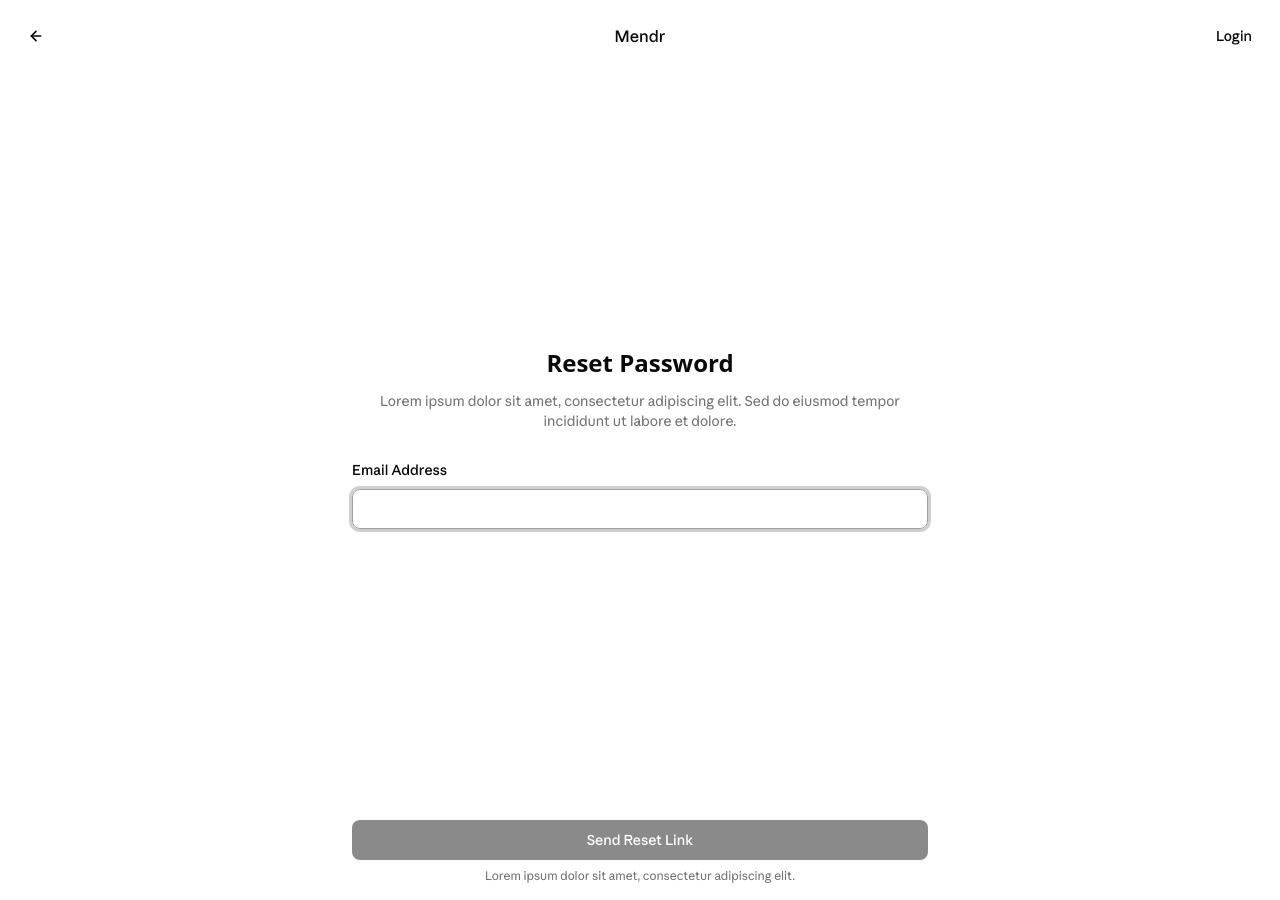
Scenario: auth/forgot/client.tsx › shows confirmation state after successful submission
The width and height of the screenshot is (1280, 900).
Step 1. Type "user@example.com" into the field labelled "Email Address" → (640, 509), box top-left (352, 489), bottom-right (928, 529)
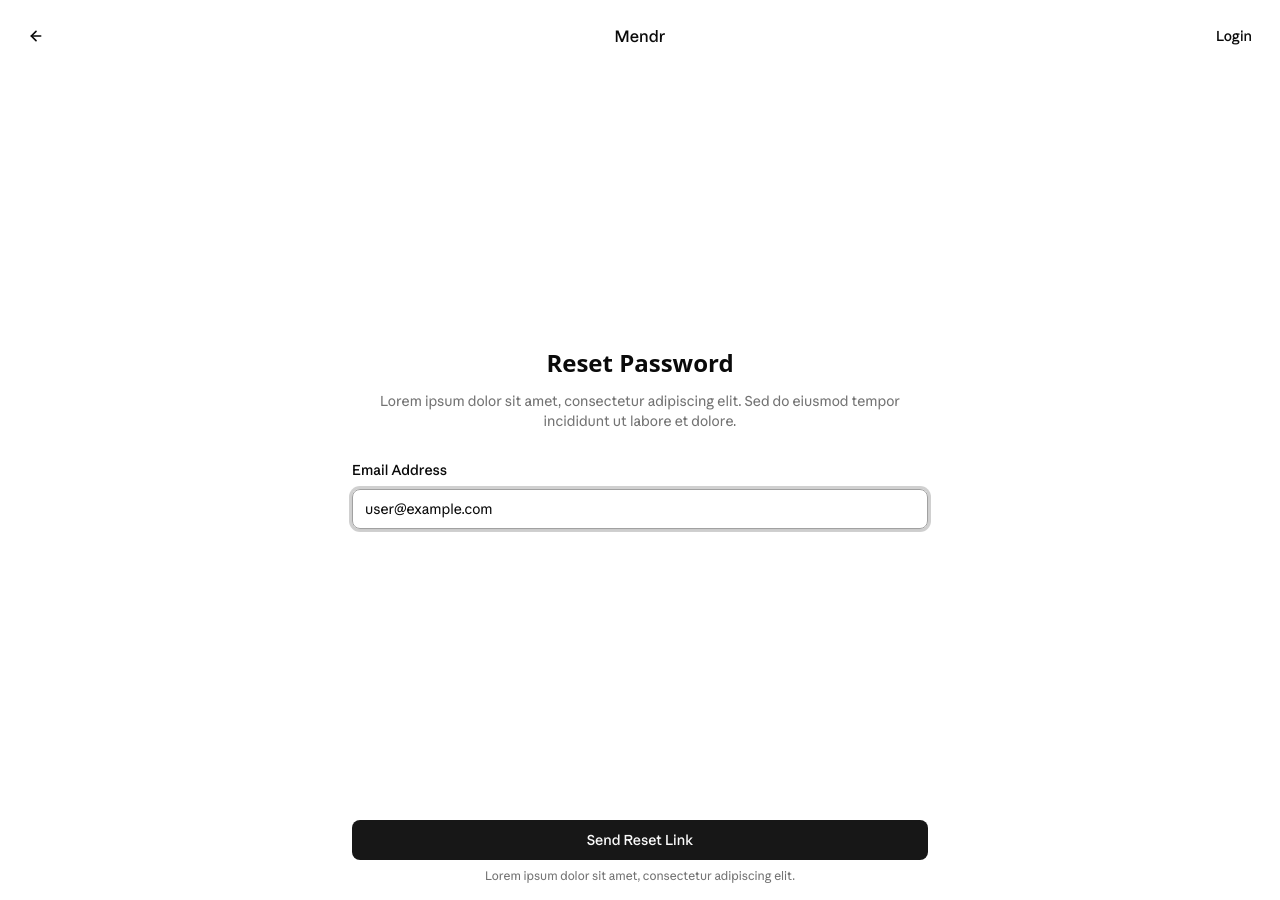
Step 2. Click the button "Send Reset Link" → (640, 840), box top-left (352, 820), bottom-right (928, 860)
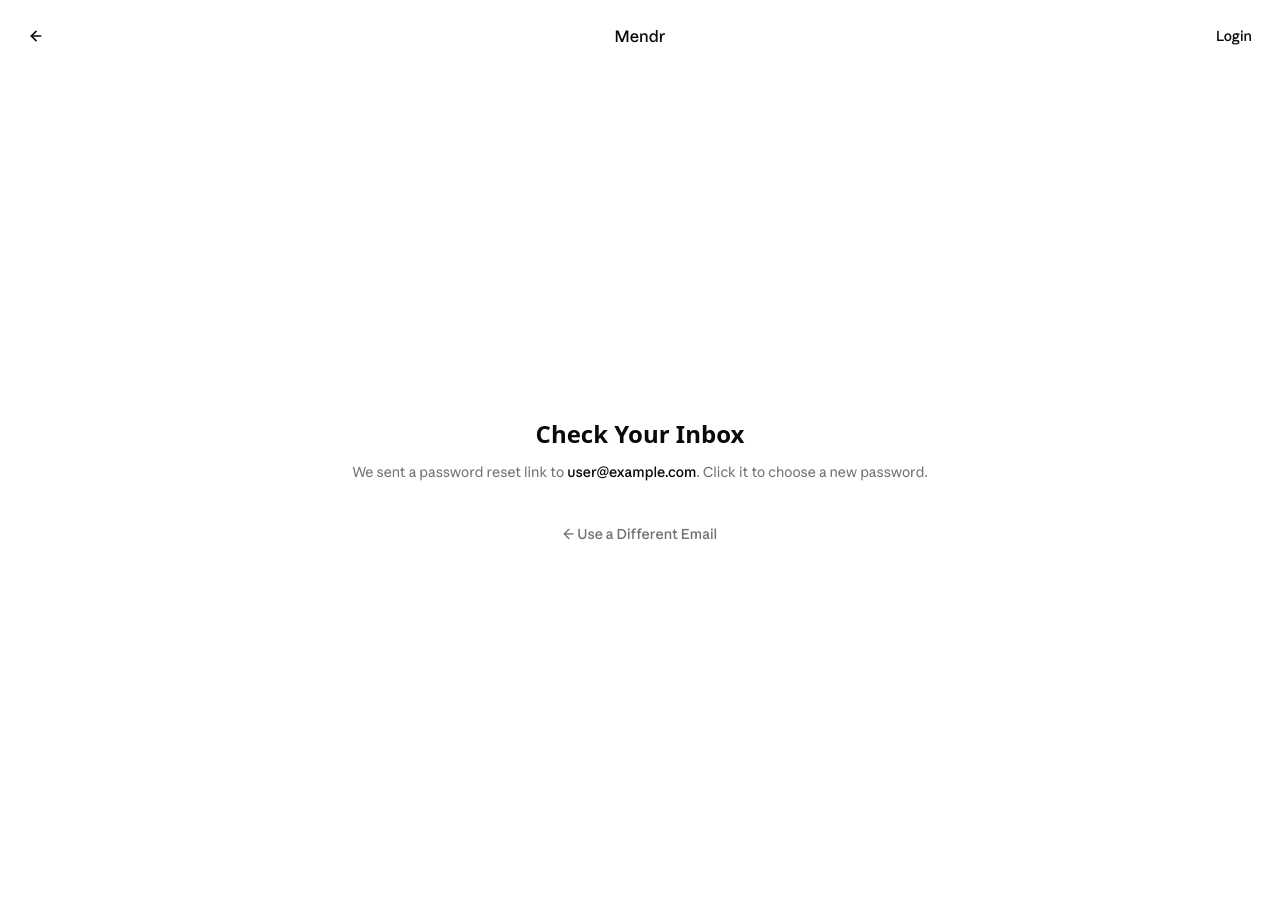
Expected: the heading "Check Your Inbox" is shown, top-left (536, 418), bottom-right (744, 450)
